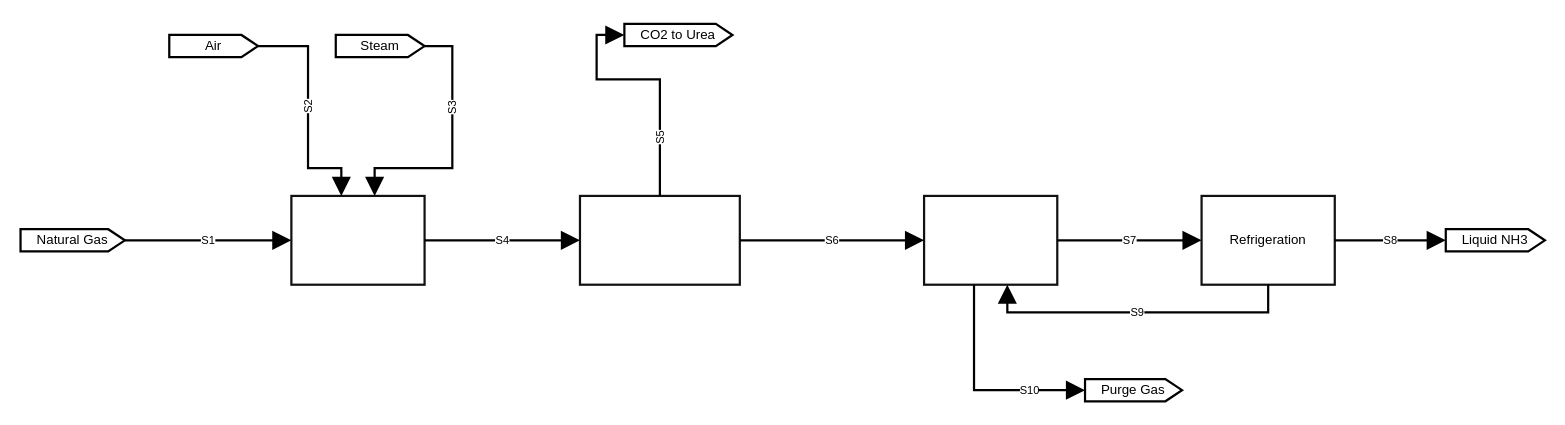
The diagram is 1565 pixels wide and 425 high, and some of its shapes have lost their labels. Here are the shapes that lost their labels. From the top down, the centre of each, then its label:
the point at 357,239: Reforming
the point at 659,239: Shift & CO2 Removal
the point at 990,239: Synthesis Loop
